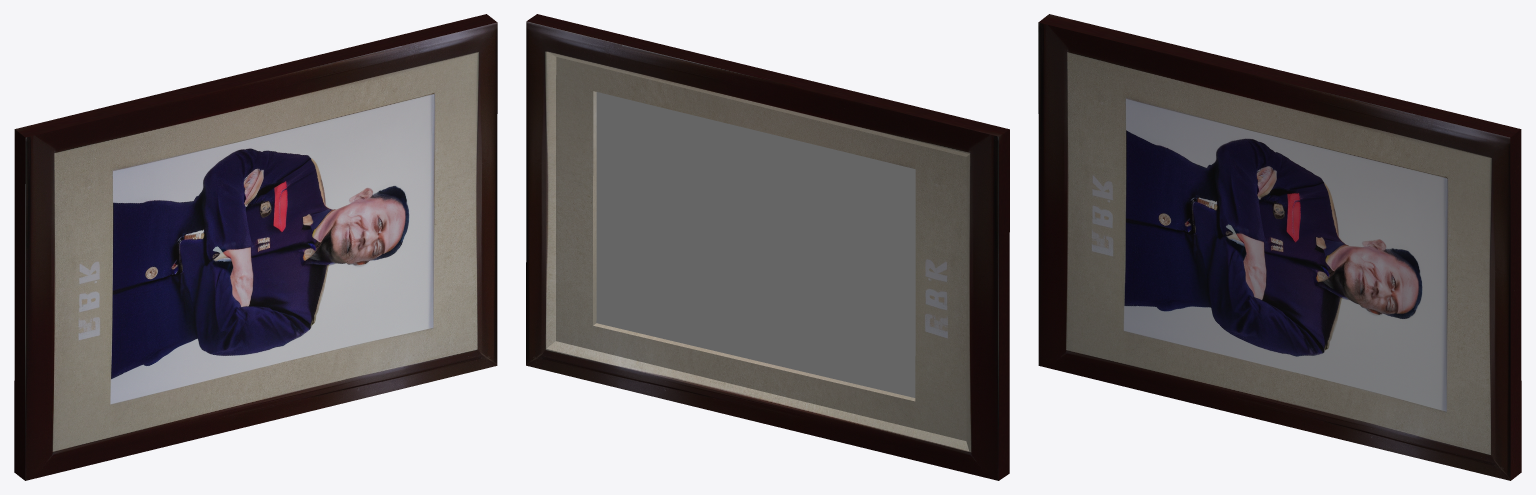
Rendered from SM_Scene_A_Brueghel00.fbx.
3 renders of one model, left to right at view 1: azimuth 30°, elevation 25°; view 2: azimuth 150°, elevation 25°; view 3: azimuth 330°, elevation 25°, orthographic.
Visible parts, largest first — view 1: SM_Scene_A_Brueghel00; view 2: SM_Scene_A_Brueghel00; view 3: SM_Scene_A_Brueghel00.
Part boxes in pixels (box(x1,y1,x2,y2)): SM_Scene_A_Brueghel00: box(14, 14, 497, 480); SM_Scene_A_Brueghel00: box(526, 14, 1009, 480); SM_Scene_A_Brueghel00: box(1038, 14, 1521, 480).
Size of the model in its own units: 299 by 208 by 12.21.
